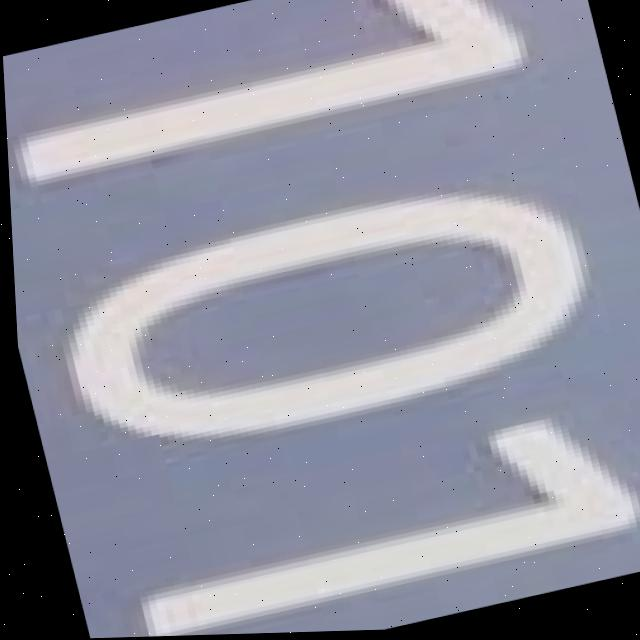character: (18, 148, 630, 488), (92, 388, 640, 638), (0, 0, 562, 207)
